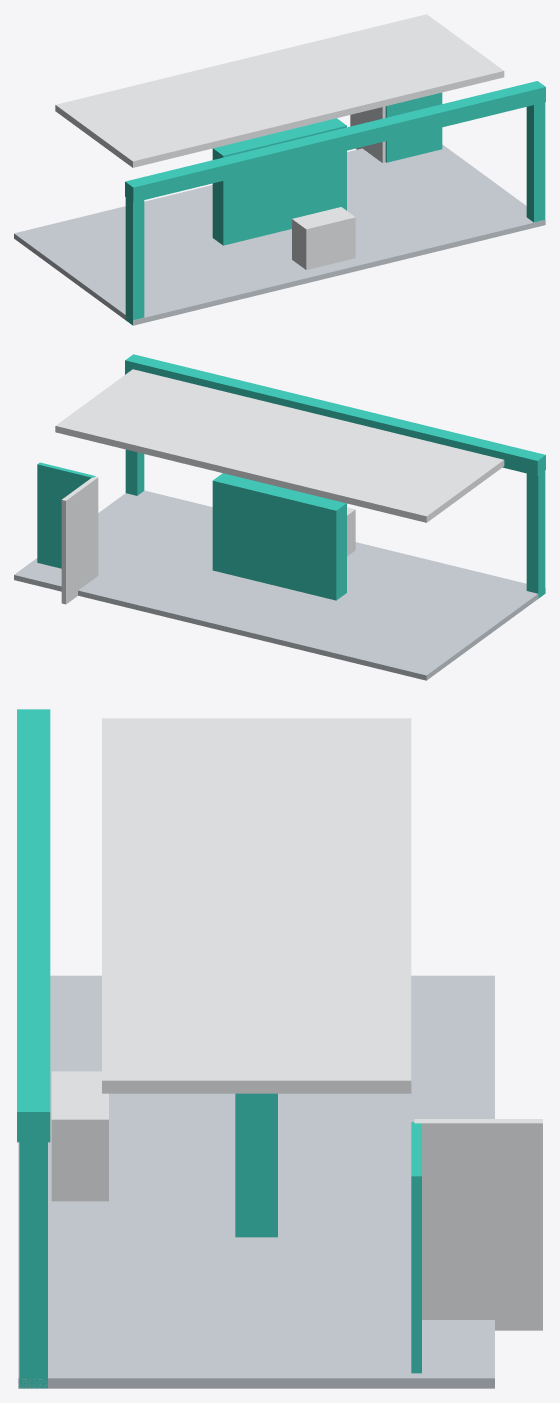
3 renders of one model, top to bottom at view 1: azimuth 30°, elevation 25°; view 2: azimuth 150°, elevation 25°; view 3: azimuth 270°, elevation 25°, orthographic. The views are drawn at different scales.
Parts seen in each view (by area): view 1: Exhibition Booth Concept; view 2: Exhibition Booth Concept; view 3: Exhibition Booth Concept.
Boxes of the visible parts, x1,y1,x2,y2 form: Exhibition Booth Concept: (14, 14, 545, 325); Exhibition Booth Concept: (14, 354, 545, 680); Exhibition Booth Concept: (17, 709, 542, 1388).
Size of the model in its own units: 10 by 3.34 by 5.52.
